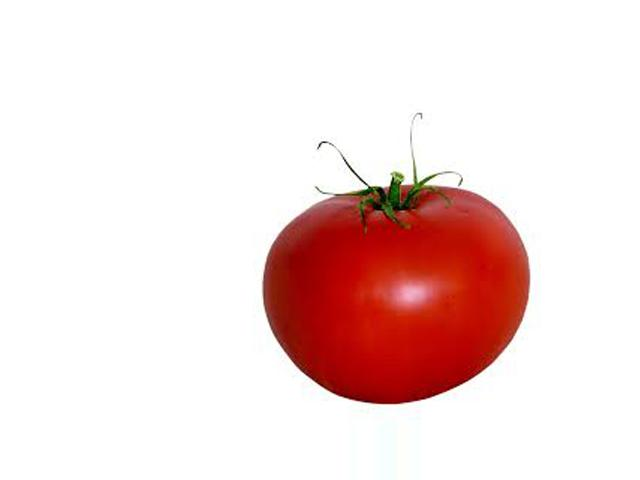tomato: (265, 185, 527, 402)
